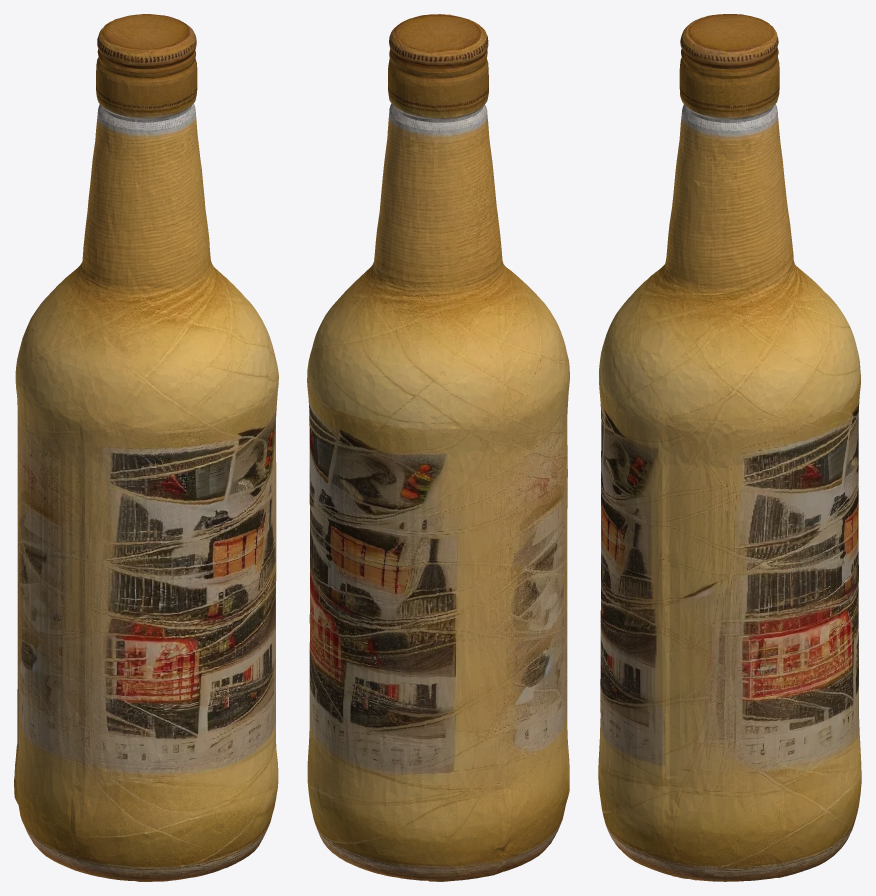
Rendered from belly (99).glb.
3 renders of one model, left to right at view 1: azimuth 30°, elevation 25°; view 2: azimuth 150°, elevation 25°; view 3: azimuth 270°, elevation 25°, orthographic.
Visible parts, largest first — view 1: Hy21_Mesh.obj; view 2: Hy21_Mesh.obj; view 3: Hy21_Mesh.obj.
Part boxes in pixels (x1,y1,x2,y2): Hy21_Mesh.obj: (14,14,278,881); Hy21_Mesh.obj: (307,14,569,881); Hy21_Mesh.obj: (598,14,861,881).
Bounding box in the file's own units: 0.5744 × 1.96 × 0.5811.
Materials: 1 (1 with a texture image).
